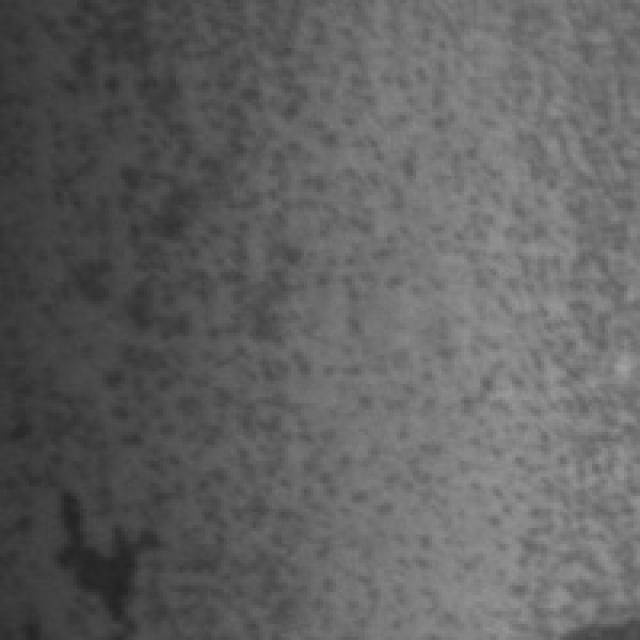pitted_surface: (22, 3, 566, 611)
